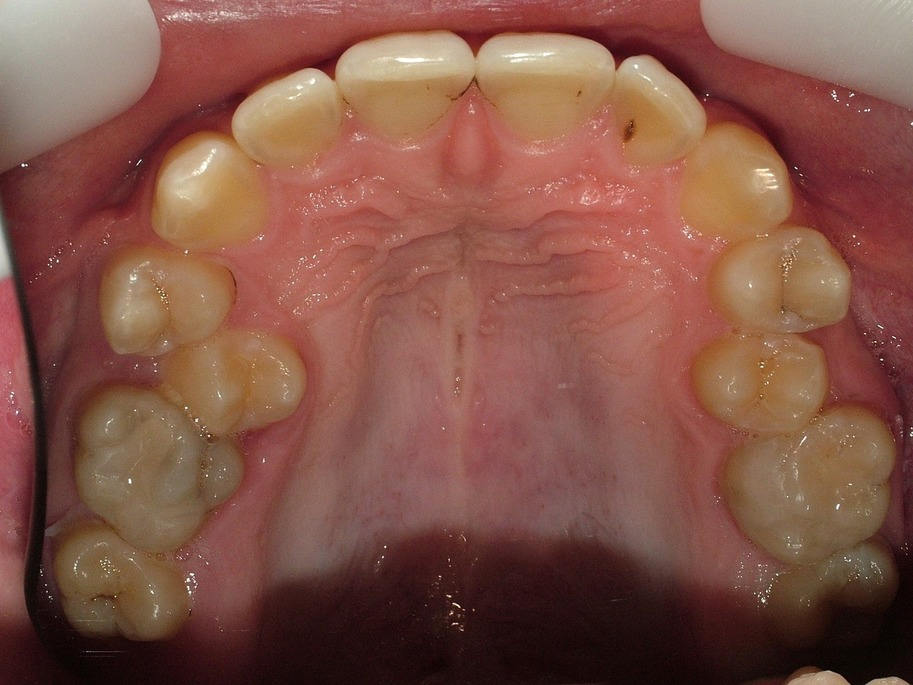UL1BC_decay: (722, 236, 845, 330)
UL1M_healthy: (727, 426, 886, 551)
UL2BC_healthy: (689, 333, 823, 424)
ULCI_decay: (482, 40, 609, 142)
ULC_healthy: (694, 126, 795, 228)
ULLI_decay: (614, 59, 702, 166)
UR1BC_decay: (102, 245, 243, 350)
UR1M_decay: (70, 403, 223, 527)
UR2BC_decay: (180, 349, 301, 437)
UR2M_decay: (57, 534, 194, 638)
URCI_decay: (337, 33, 470, 138)
URC_healthy: (172, 145, 269, 244)
URLI_healthy: (240, 77, 342, 160)
